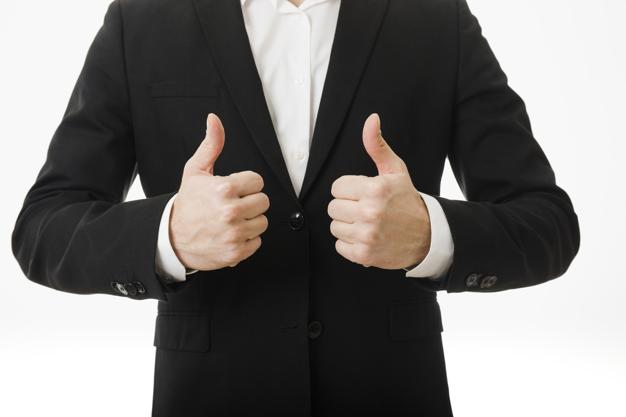thumbsup: (195, 112, 271, 269), (327, 111, 403, 265)
